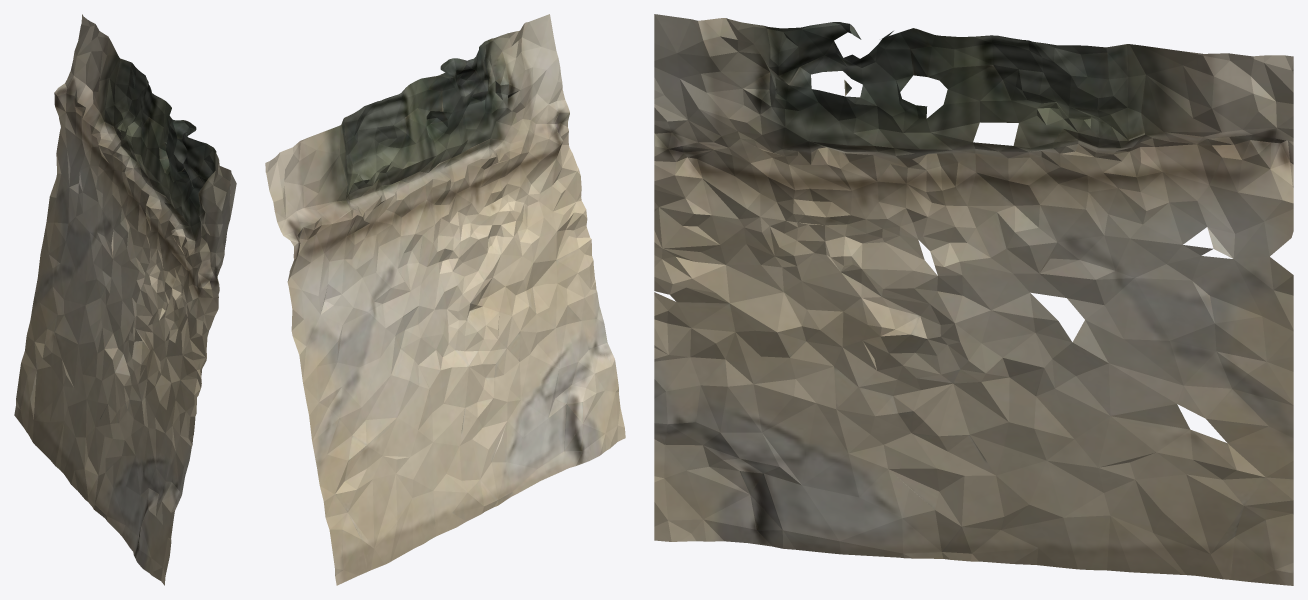
3 renders of one model, left to right at view 1: azimuth 30°, elevation 25°; view 2: azimuth 150°, elevation 25°; view 3: azimuth 270°, elevation 25°, orthographic. The views are drawn at different scales.
Size of the model in its own units: 0.5908 by 1.67 by 1.67.
3 materials, 3 textured.
